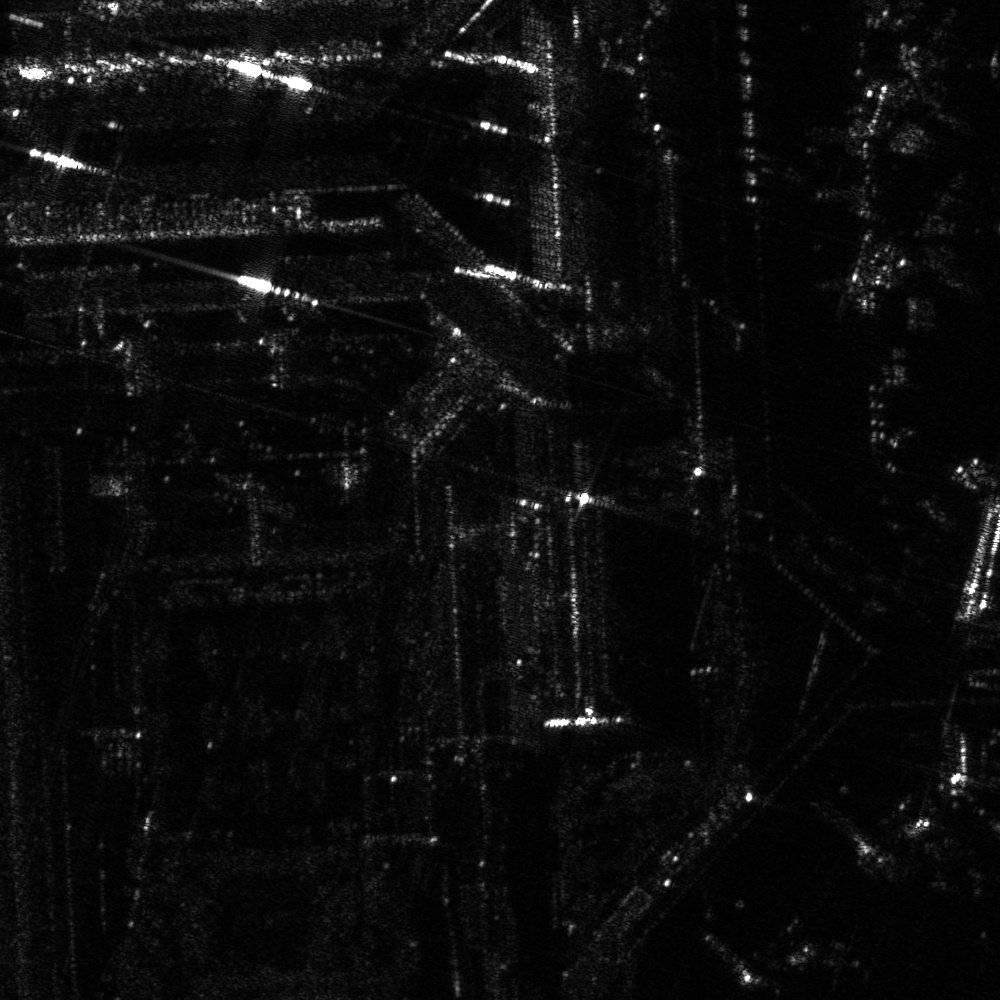A320/321: (854, 161, 999, 311)
